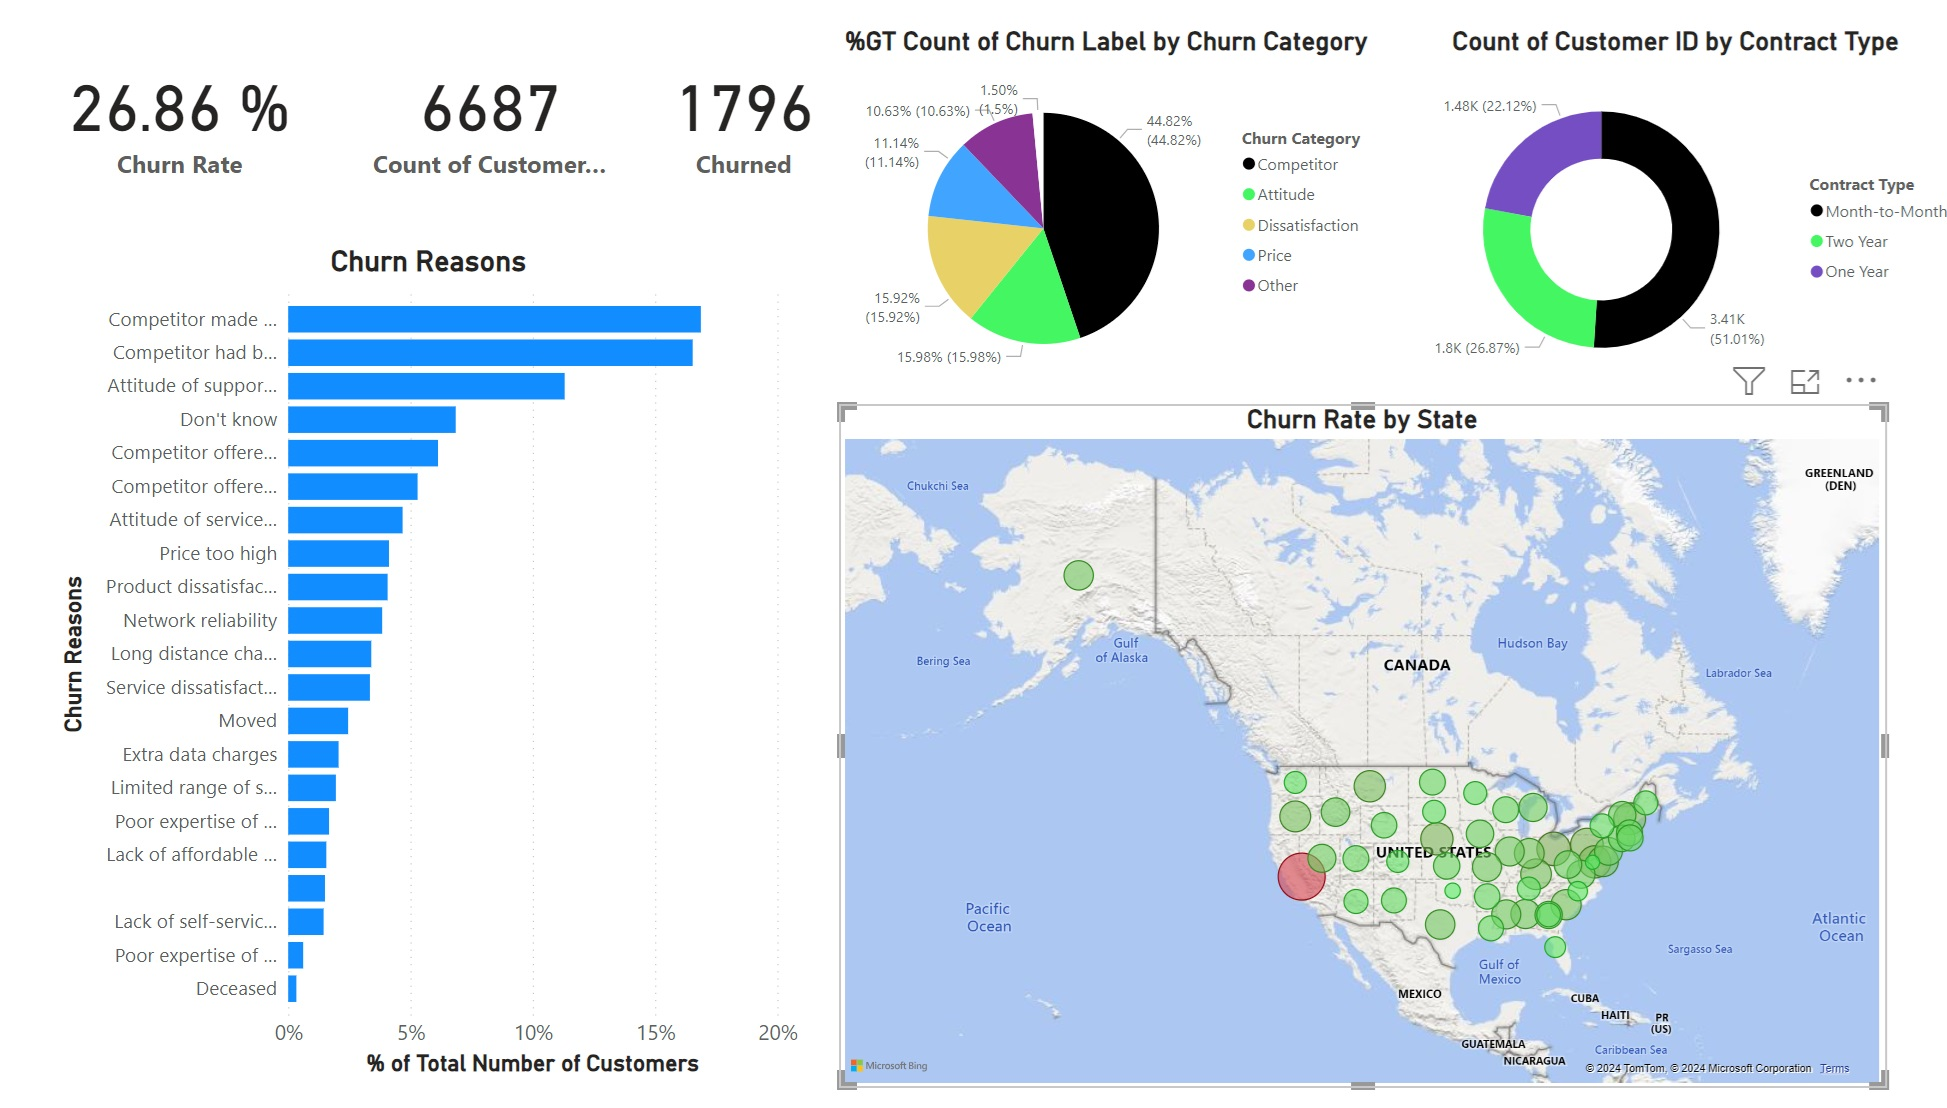

Layout of this report page (visuals, bound fields, positions):
{"tool":"powerbi","page":{"name":"Insight 1","canvas":[1640,960],"ordinal":5},"visuals":[{"type":"card","fields":{"Values":["Databel - Data.Churn Rate"]},"box":[48.9,37.1,211.2,123.2],"z":0},{"type":"card","fields":{"Values":["Count(Databel - Data.Customer ID)"]},"box":[307,37.1,211.2,123.2],"z":1000},{"type":"card","fields":{"Values":["Sum(Databel - Data.Churned)"]},"box":[518.1,37.1,211.2,123.2],"z":2000},{"type":"clusteredBarChart","title":"Churn Reasons","fields":{"Category":["Databel - Data.Churn Reason"],"Y":["CountNonNull(Databel - Data.Number of Customers in Group)"]},"box":[48.9,205.3,625.7,698],"z":3000},{"type":"donutChart","fields":{"Y":["Count(Databel - Data.Customer ID)"],"Category":["Databel - Data.Contract Type"]},"box":[1159.4,23.5,481,314.8],"z":4000},{"type":"pieChart","fields":{"Category":["Databel - Data.Churn Category"],"Y":["CountNonNull(Databel - Data.Churn Label)"]},"box":[703.9,23.5,455.6,312.8],"z":5000},{"type":"map","fields":{"Category":["Databel - Data.State"],"Size":["Databel - Data.Churn Rate"]},"box":[703.9,338.2,872,570.9],"z":6000}]}

Visuals, with their boxes in screenshot pixels (x1, y1, x2, y2), scaled from the page's 1640x960 canvas onto the 1947x1108 screenshot:
card - Databel - Data.Churn Rate: [x1=58, y1=43, x2=309, y2=185]
card - Count(Databel - Data.Customer ID): [x1=364, y1=43, x2=615, y2=185]
card - Sum(Databel - Data.Churned): [x1=615, y1=43, x2=866, y2=185]
"Churn Reasons" clusteredBarChart: [x1=58, y1=237, x2=801, y2=1043]
donutChart - Count(Databel - Data.Customer ID) x Databel - Data.Contract Type: [x1=1376, y1=27, x2=1946, y2=390]
pieChart - Databel - Data.Churn Category x CountNonNull(Databel - Data.Churn Label): [x1=836, y1=27, x2=1377, y2=388]
map - Databel - Data.State x Databel - Data.Churn Rate: [x1=836, y1=390, x2=1871, y2=1049]
